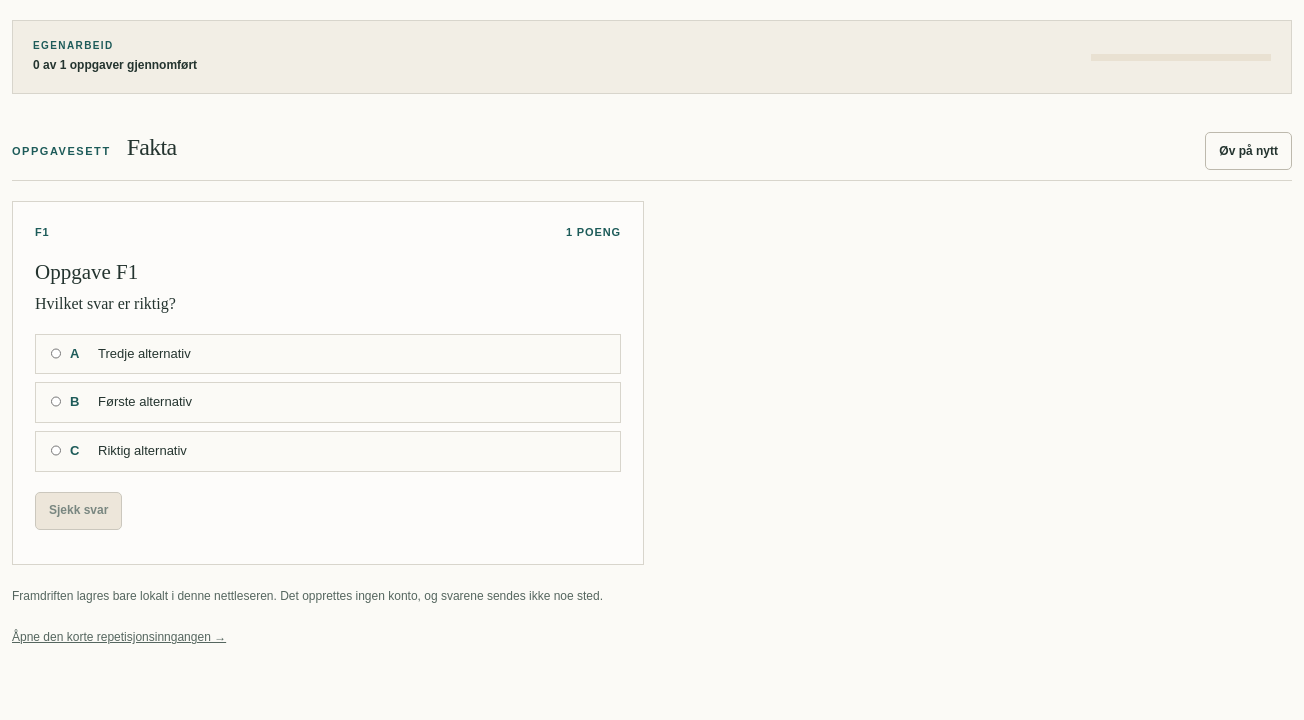
Test: oppgavemotoren › gir hint ved første feil uten å avsløre forklaringen og lagrer forsøket
Expected: the text "0 av 1 oppgaver gjennomført" is shown, left=33, top=58, right=197, bottom=72
Step 1. Click the radio button labelled "B Første alternativ" → click(56, 402), box left=51, top=395, right=61, bottom=408
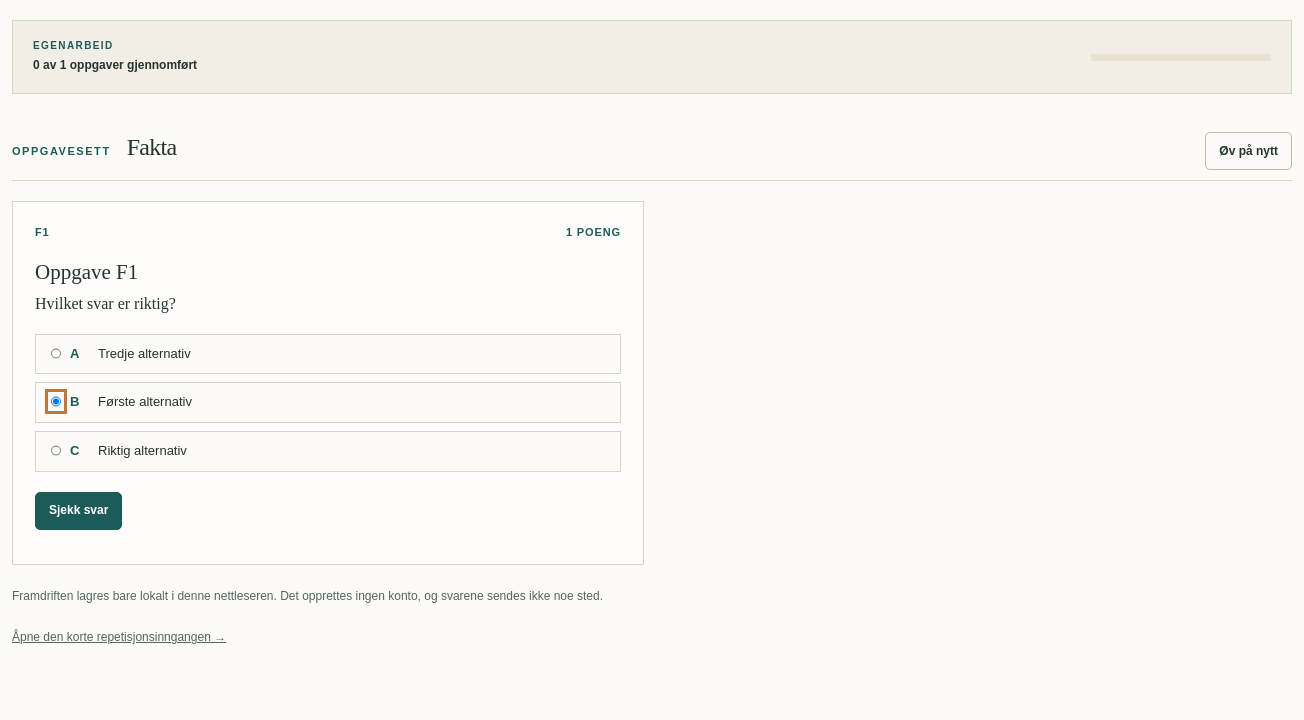
Step 2. Click the button "Sjekk svar" → click(79, 511), box left=35, top=492, right=122, bottom=530
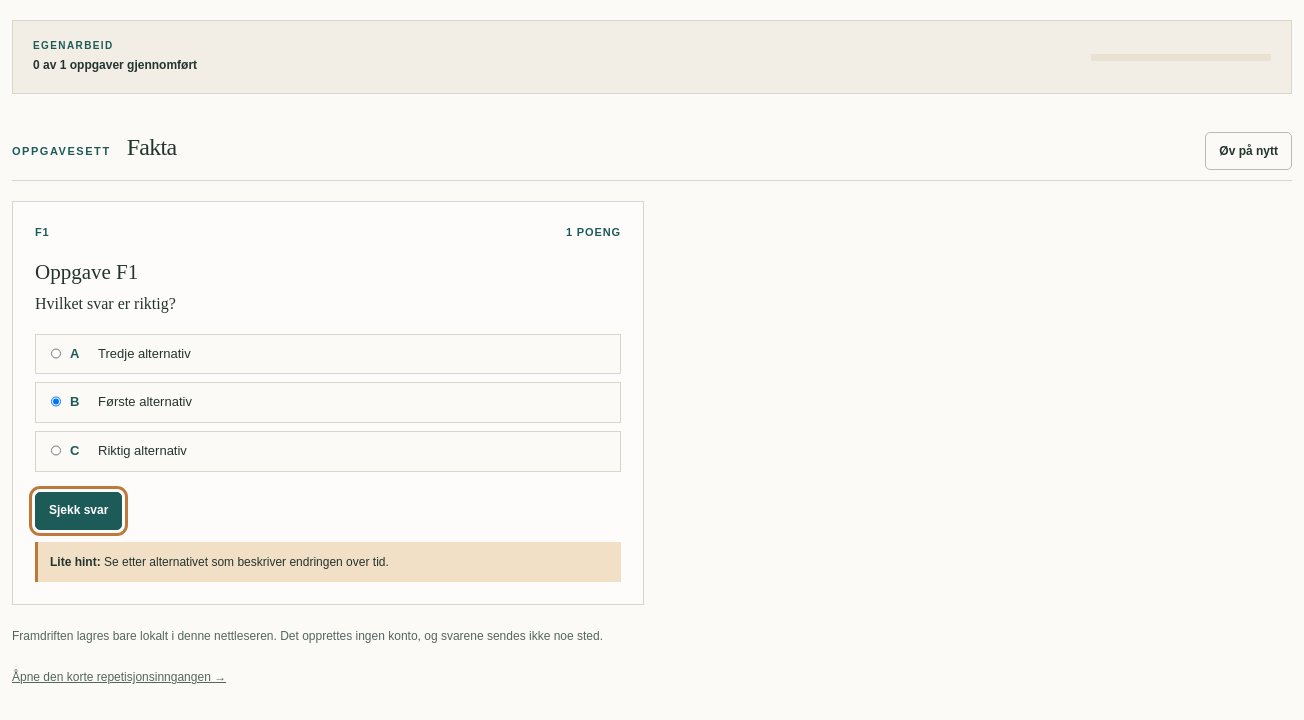
Expected: the text "Lite hint:" is shown, left=50, top=555, right=101, bottom=569
